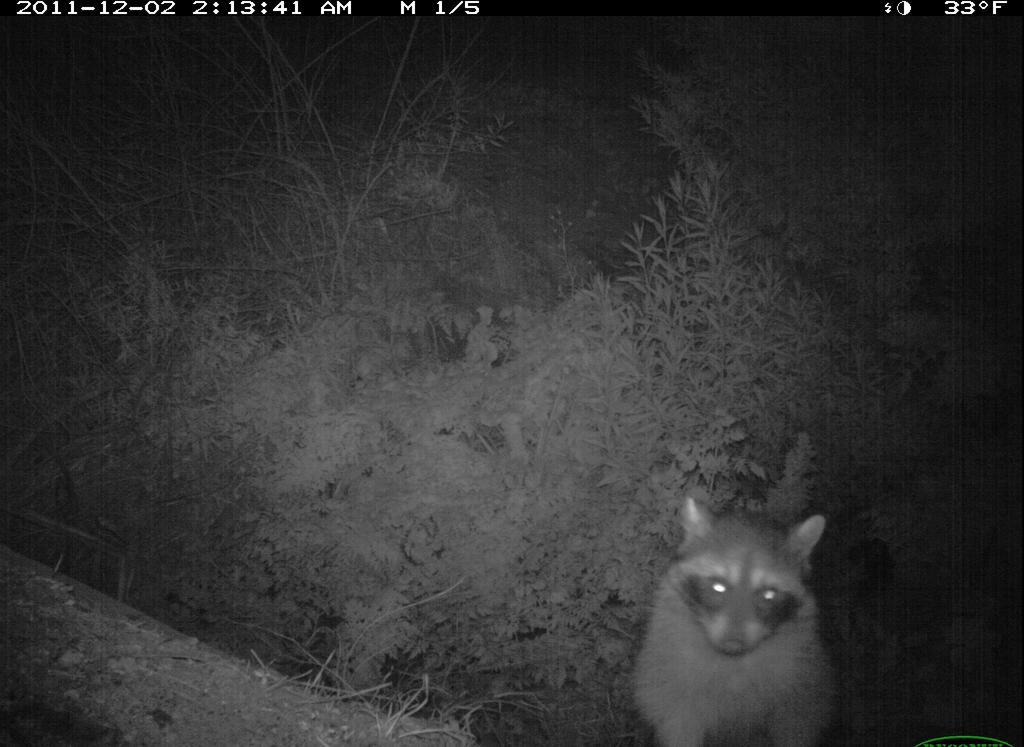raccoon: (628, 483, 858, 747)
